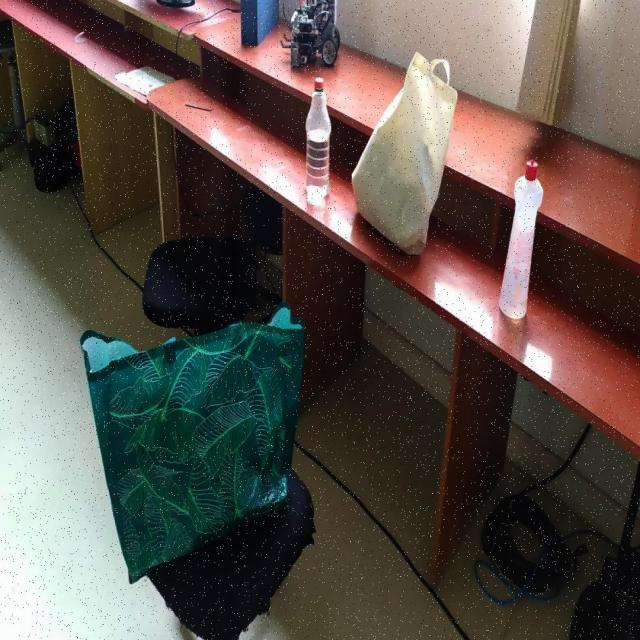Bag: (78, 292, 310, 586), (351, 48, 458, 264)
